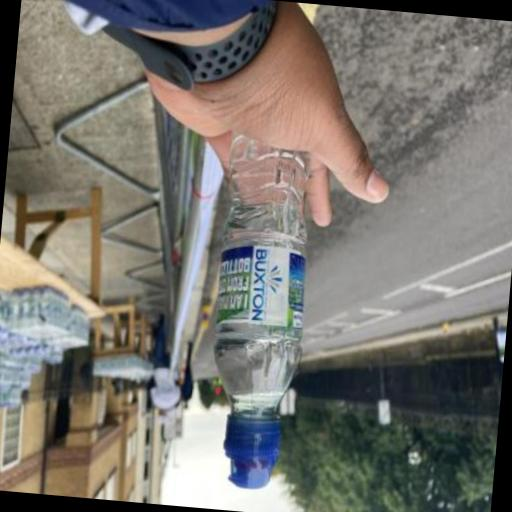Coca: (190, 114, 328, 504)
